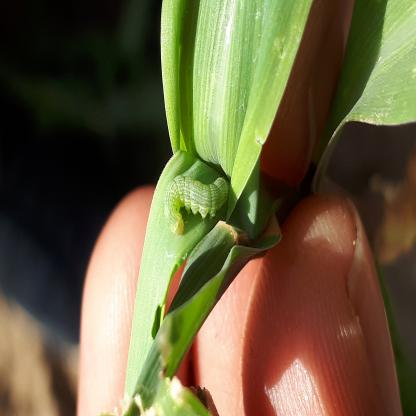armyworm: (104, 292, 142, 414)
